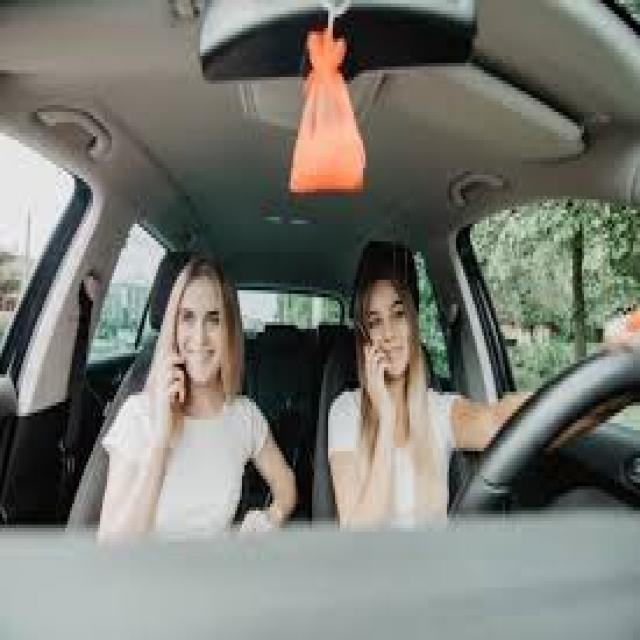Cellphone_calling: (142, 308, 195, 430), (342, 304, 391, 409)
